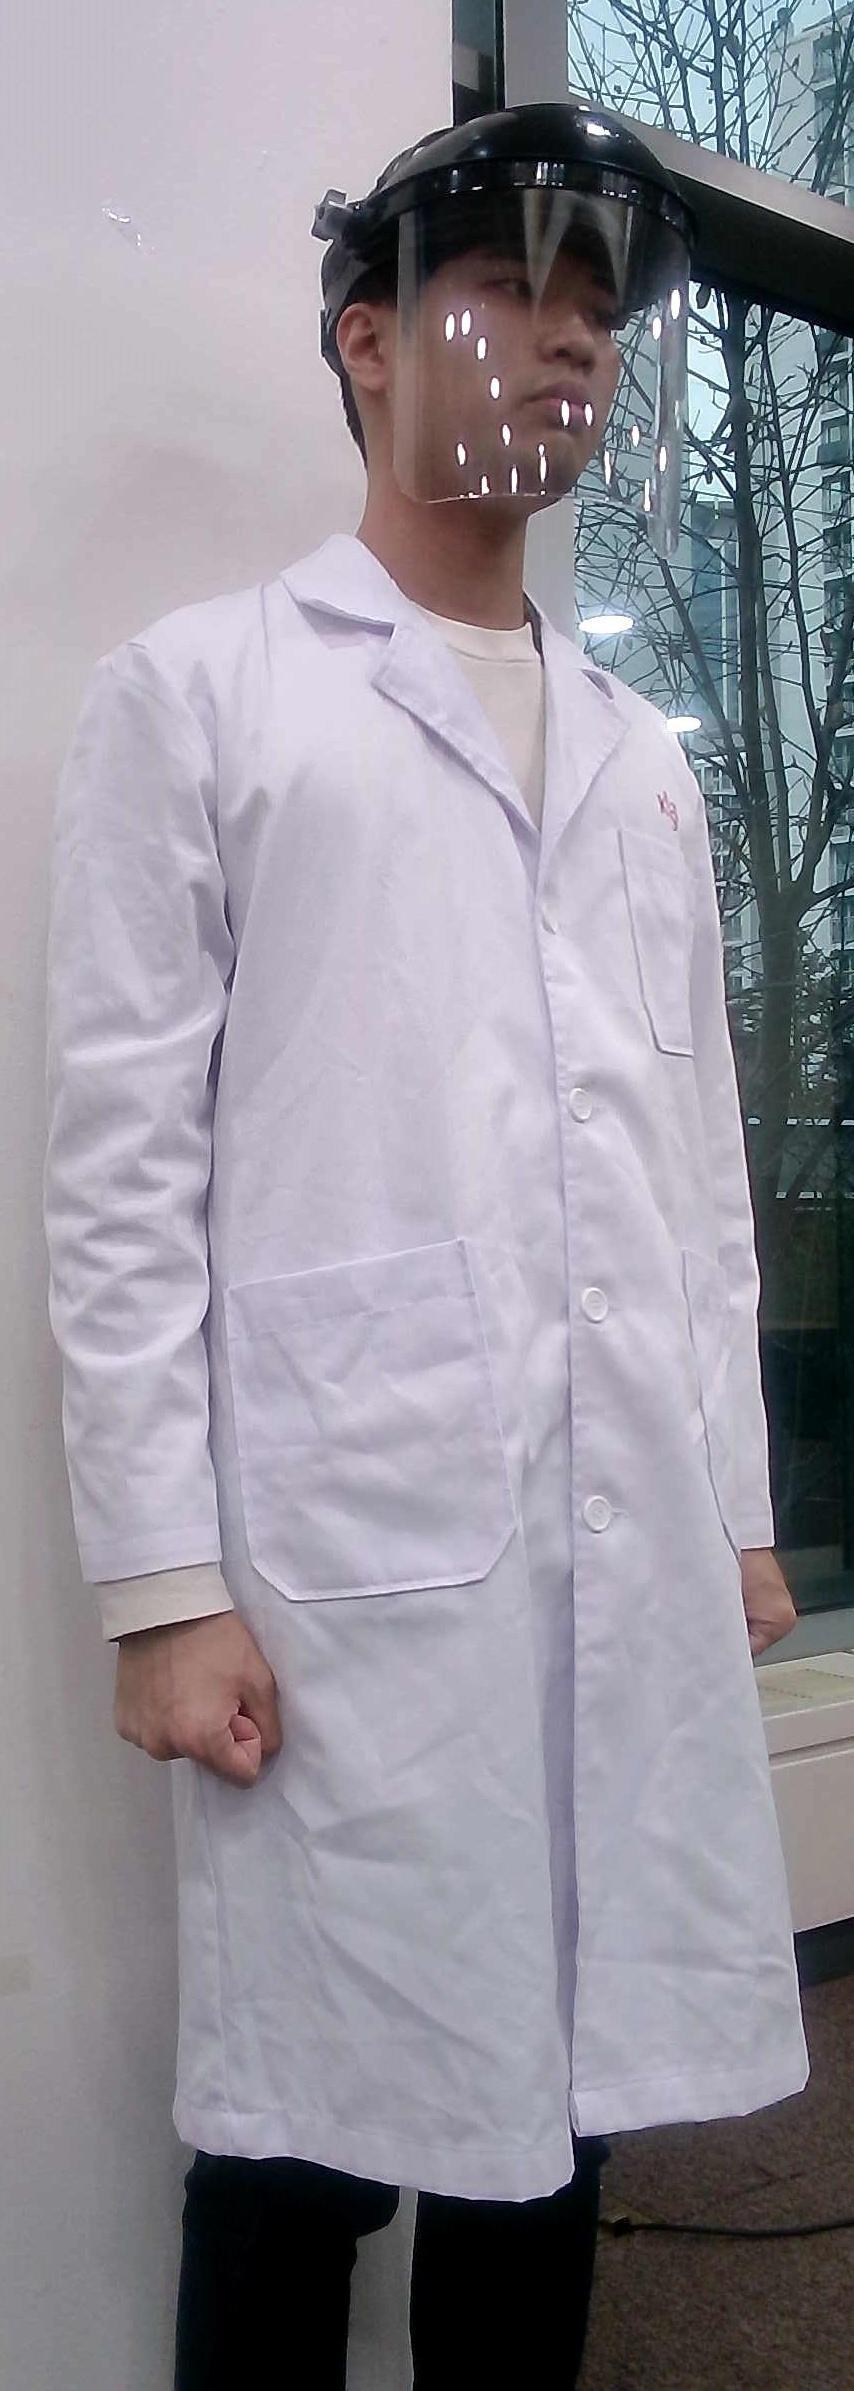lab_coat: (217, 636, 804, 2144)
